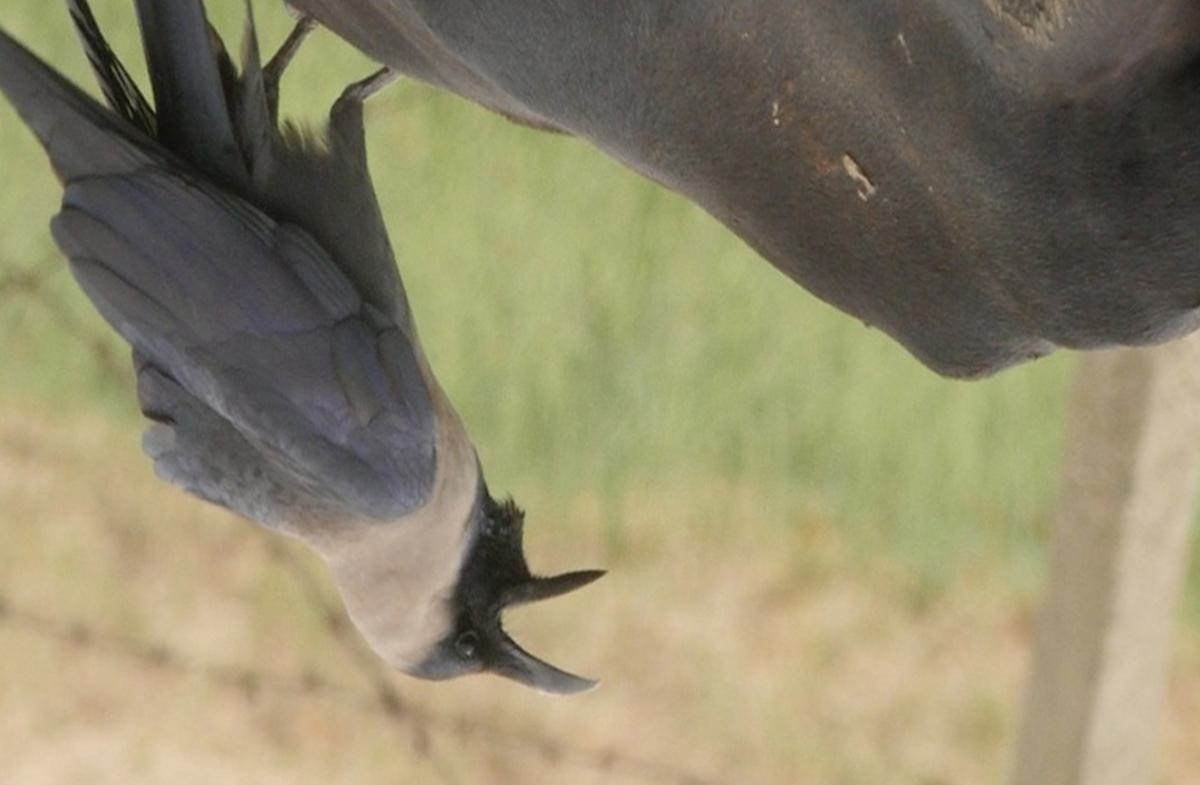crow: (1, 1, 643, 706)
